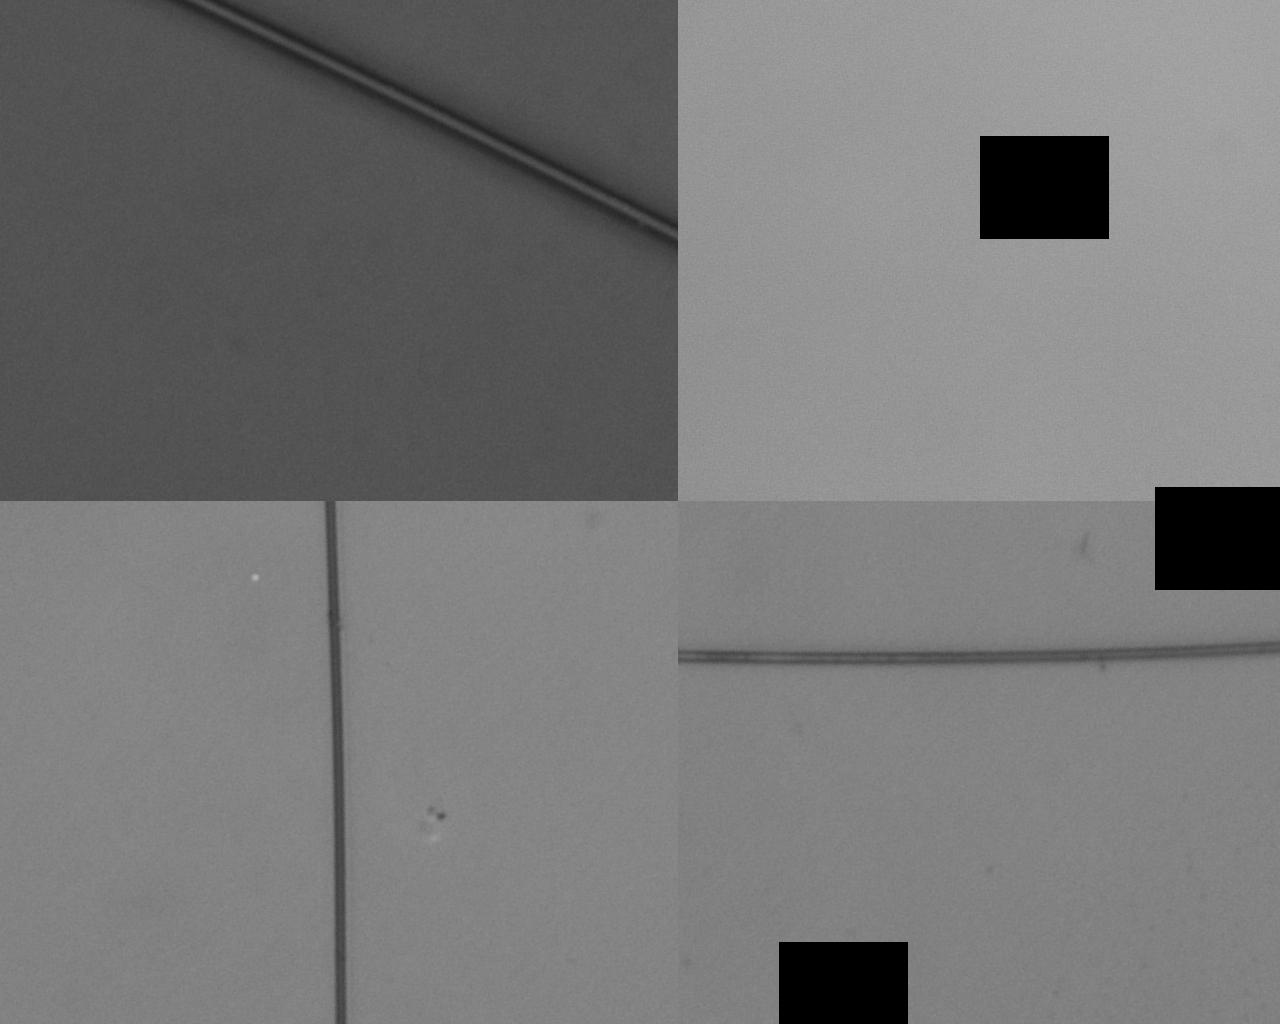fiber: (0, 624, 576, 1024), (860, 624, 905, 1024)
